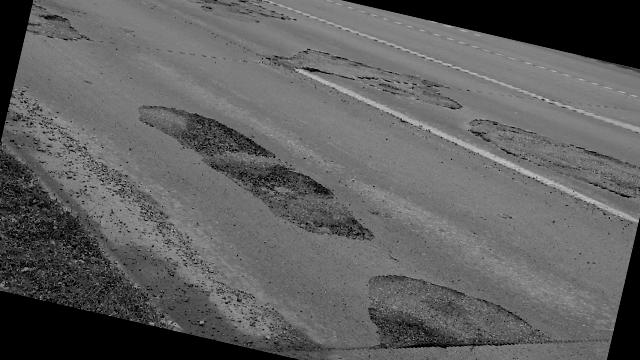Pothole: (124, 70, 401, 265), (450, 98, 640, 231), (340, 259, 573, 360), (263, 30, 468, 123), (45, 0, 299, 52), (24, 5, 124, 61)
